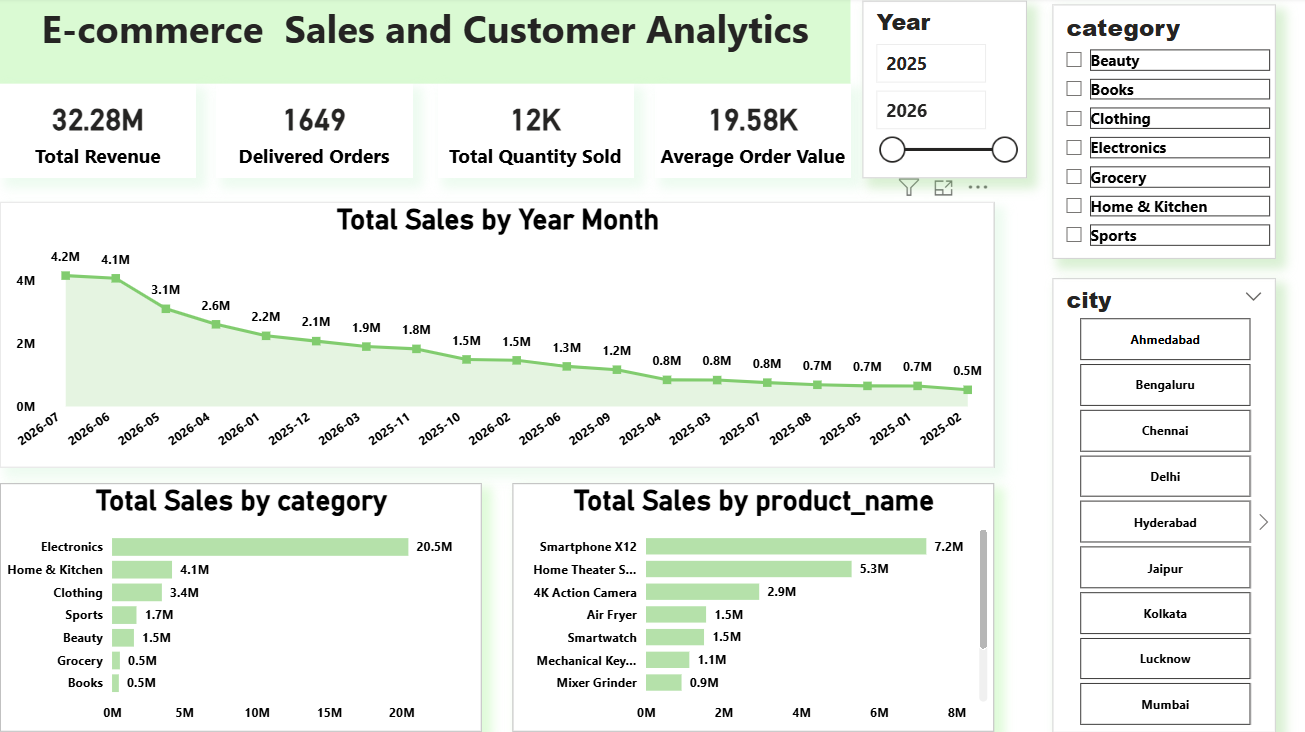

Layout of this report page (visuals, bound fields, positions):
{"tool":"powerbi","page":{"name":"Page 1","canvas":[1280,720],"ordinal":0},"visuals":[{"type":"textbox","box":[0,0,831.8,84.5],"z":0},{"type":"card","fields":{"Values":["order_items.Total Sales"]},"box":[0,84.5,191.6,92.4],"z":1000},{"type":"card","fields":{"Values":["orders.Delivered Orders"]},"box":[211.9,84.5,191.6,92.4],"z":2000},{"type":"card","fields":{"Values":["orders.Average Order Value"]},"box":[641.3,84.5,191.6,92.4],"z":3000},{"type":"card","fields":{"Values":["order_items.Total Quantity Sold"]},"box":[428.3,84.5,191.6,92.4],"z":4000},{"type":"lineChart","fields":{"Y":["order_items.Total Sales"],"Category":["Calendar.Year Month"]},"box":[0,200.6,972.7,260.4],"z":5000},{"type":"clusteredBarChart","fields":{"Category":["products.category"],"Y":["order_items.Total Sales"]},"box":[0,475.6,471,244],"z":6000},{"type":"clusteredBarChart","fields":{"Y":["order_items.Total Sales"],"Category":["products.product_name"]},"box":[501.6,475.6,471,244],"z":7000},{"type":"slicer","fields":{"Values":["Calendar.Year"]},"box":[844.2,3.4,161.2,173.6],"z":9000},{"type":"slicer","fields":{"Values":["customers.city"]},"box":[1030.2,275,218.7,445.2],"z":10000},{"type":"slicer","fields":{"Values":["products.category"]},"box":[1030.2,6.8,218.7,249.1],"z":11000}]}

Visuals, with their boxes in screenshot pixels (x1, y1, x2, y2), scaled from the page's 1280x720 canvas onto the 1305x732 screenshot:
textbox: 0/0/848/86
card - order_items.Total Sales: 0/86/195/180
card - orders.Delivered Orders: 216/86/411/180
card - orders.Average Order Value: 654/86/849/180
card - order_items.Total Quantity Sold: 437/86/632/180
lineChart - order_items.Total Sales x Calendar.Year Month: 0/204/992/469
clusteredBarChart - products.category x order_items.Total Sales: 0/484/480/731
clusteredBarChart - order_items.Total Sales x products.product_name: 511/484/992/731
slicer - Calendar.Year: 861/3/1025/180
slicer - customers.city: 1050/280/1273/731
slicer - products.category: 1050/7/1273/260
